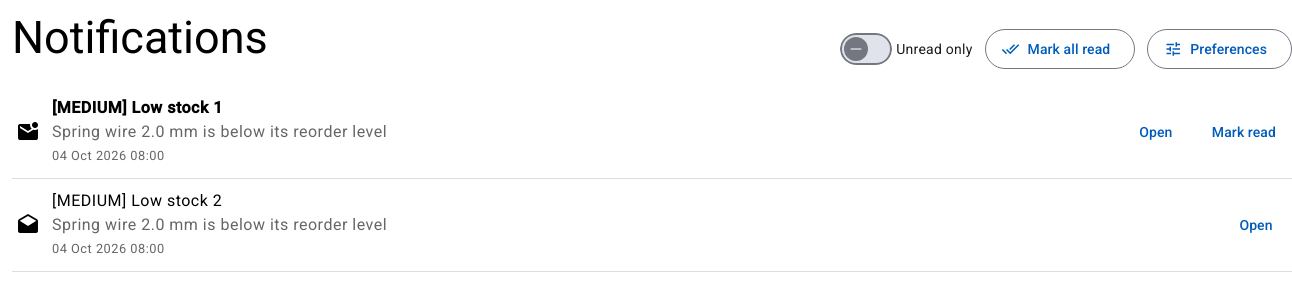
it: NotificationInboxComponent › offers "mark read" only on unread rows and updates the row in place
The width and height of the screenshot is (1292, 289).
Click the button with test id "read" at (1244, 132), box left=1200, top=112, right=1288, bottom=152
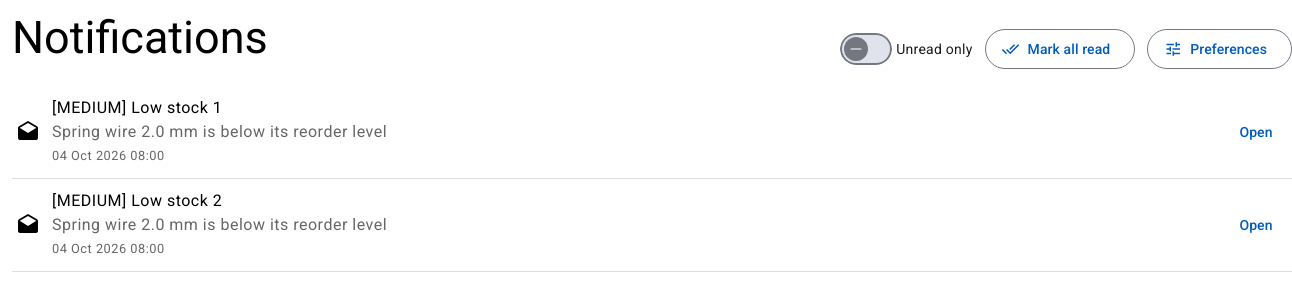
Expected: no buttons with test id "read" are shown
